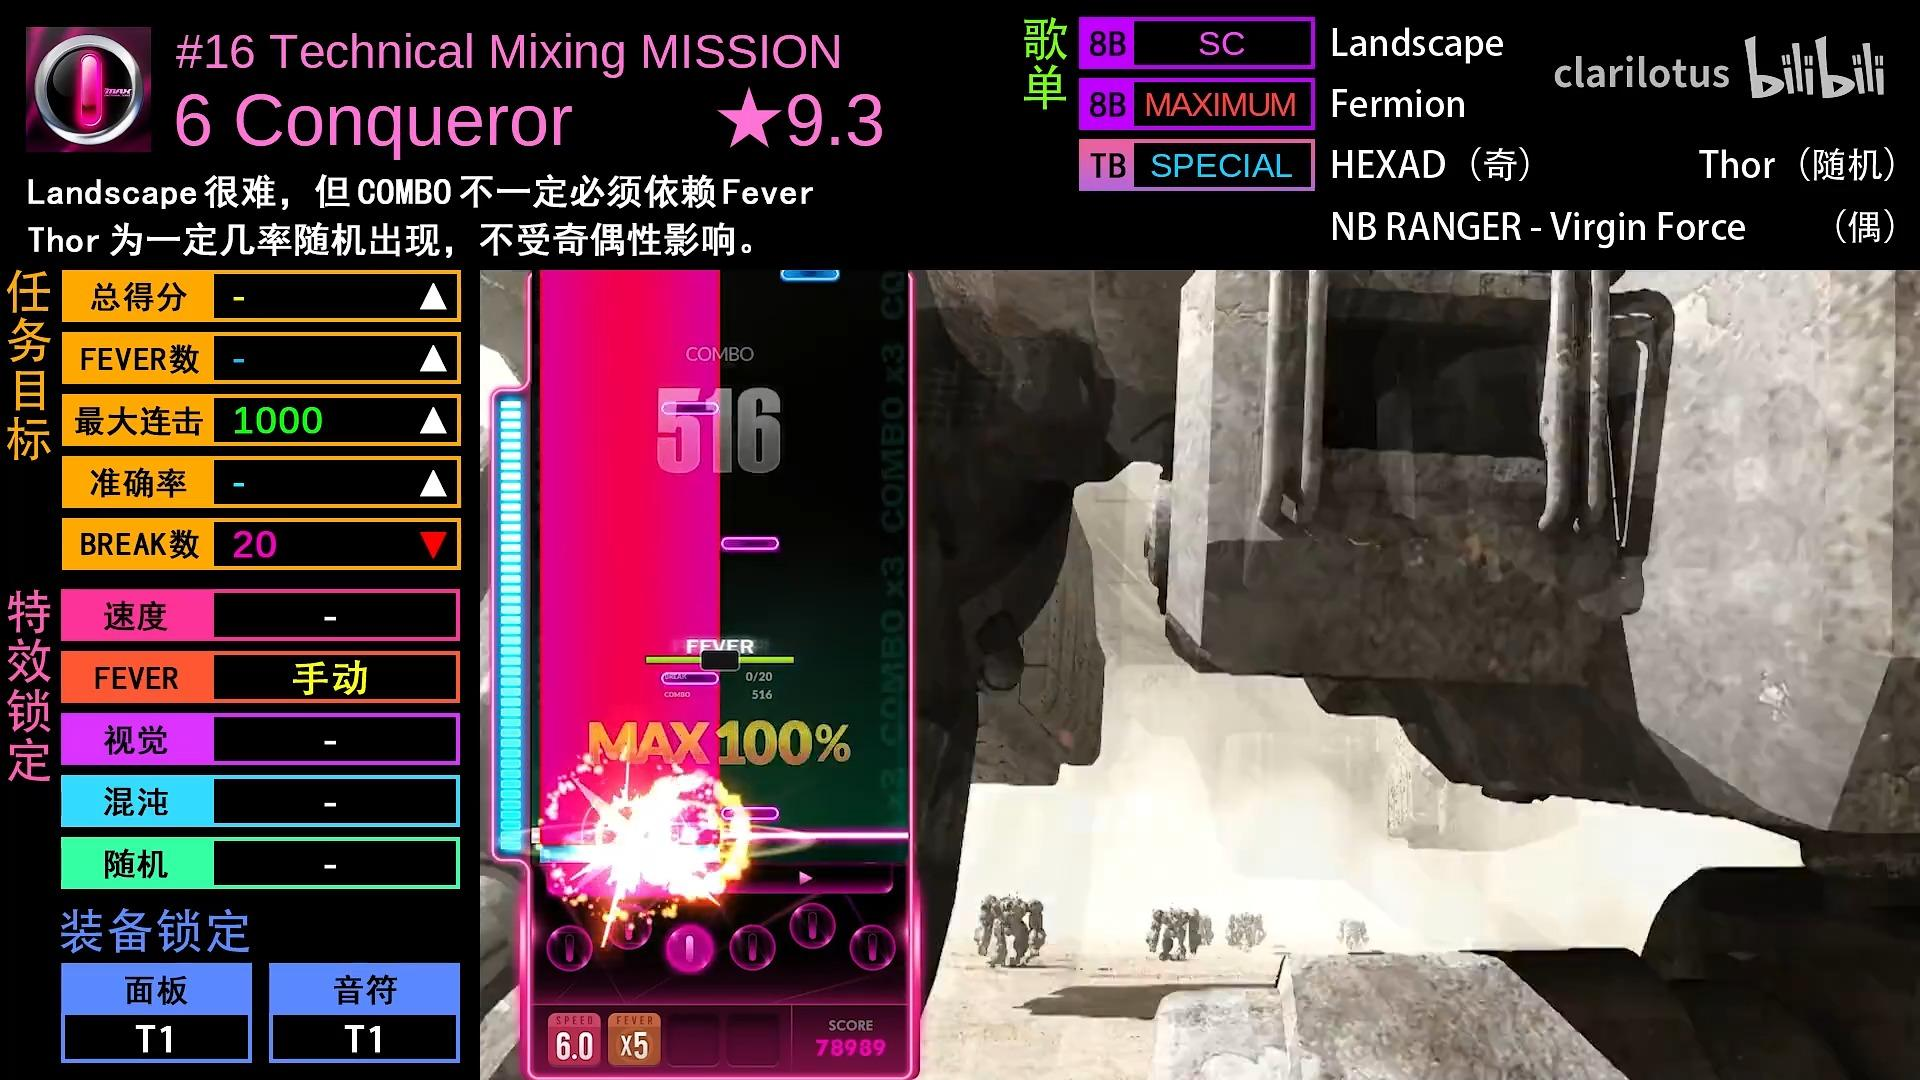note: (719, 806, 781, 822), (661, 401, 719, 417), (721, 535, 779, 550), (661, 671, 719, 686), (781, 269, 840, 281)
